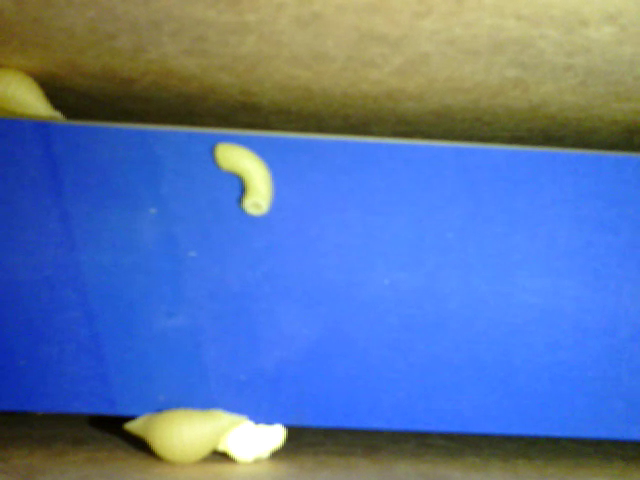elbow: (214, 144, 275, 217)
shell: (120, 407, 251, 464), (1, 62, 68, 122)
